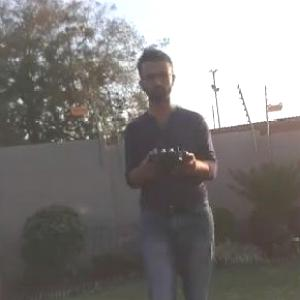follow: (117, 38, 222, 299)
